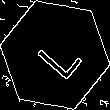L_NW: (27, 27, 83, 83)
